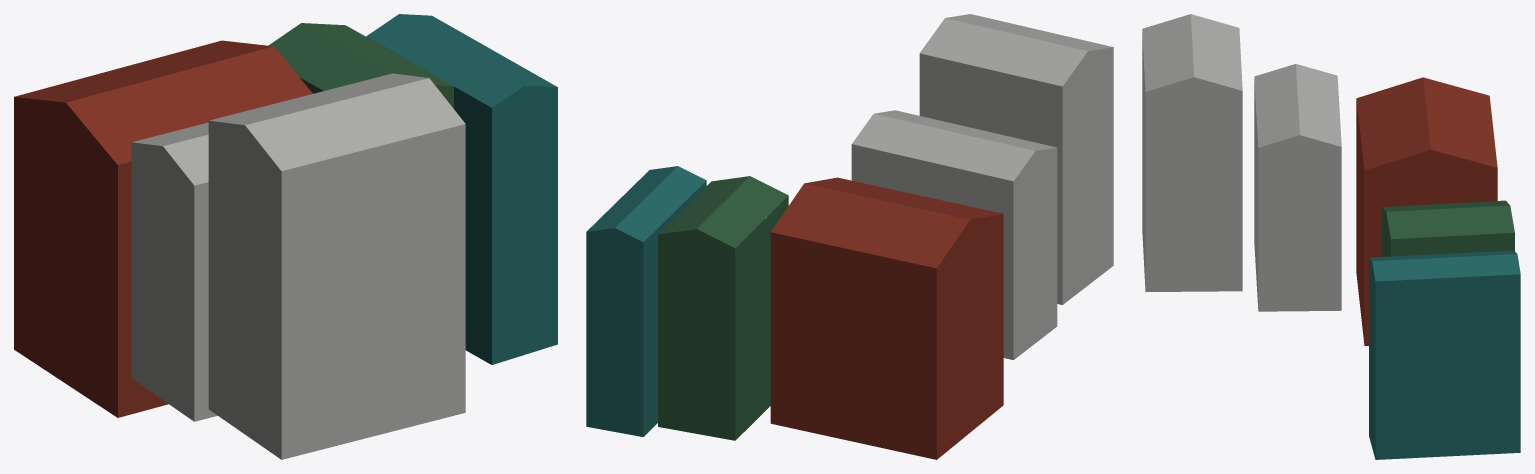
Rendered from near-15-27350-14875.c347cb4e.glb.
The picture shows the model from 3 angles, left to right: view 1: azimuth 30°, elevation 25°; view 2: azimuth 150°, elevation 25°; view 3: azimuth 270°, elevation 25°; orthographic projection. The views are drawn at different scales.
Bounding box in the file's own units: 32.99 × 29.06 × 33.78.
